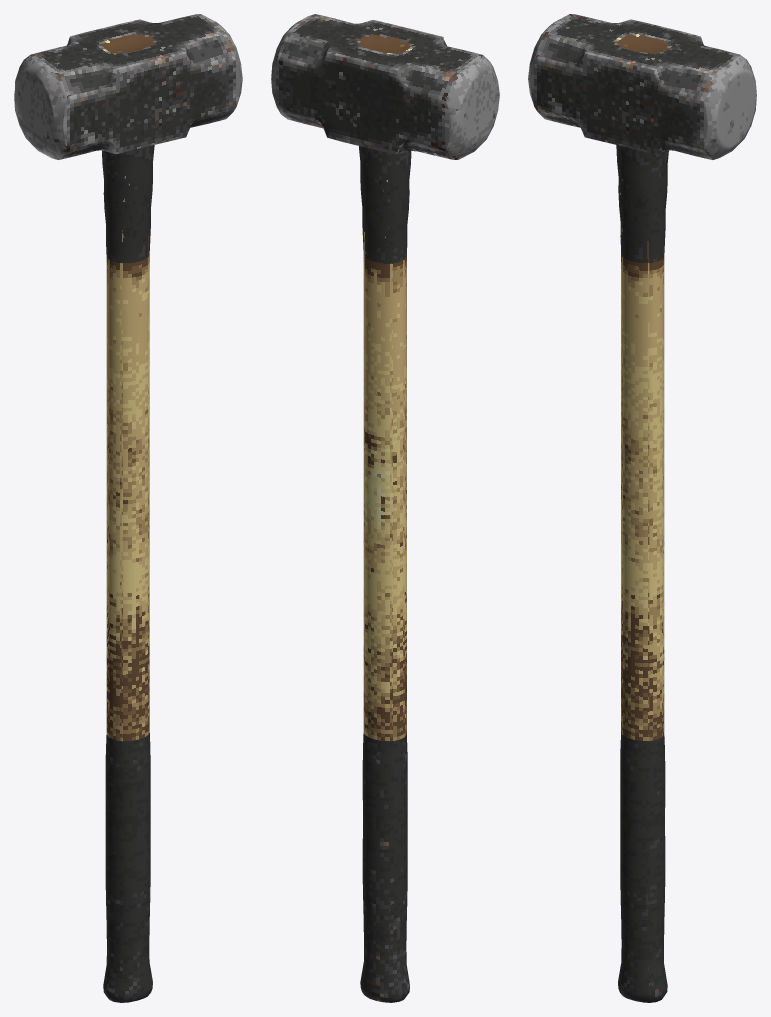
Rendered from sledgehammer_01.glb.
3 views of the same model, side by side, from view 1: azimuth 30°, elevation 25°; view 2: azimuth 150°, elevation 25°; view 3: azimuth 330°, elevation 25° (orthographic).
Visible parts, largest first — view 1: body; view 2: body; view 3: body.
Part boxes in pixels (x1,y1,x2,y2): body: (14, 14, 242, 1002); body: (271, 14, 499, 1002); body: (528, 14, 756, 1002).
Size of the model in its own units: 0.2085 by 1.01 by 0.0905.
1 material, 1 textured.
